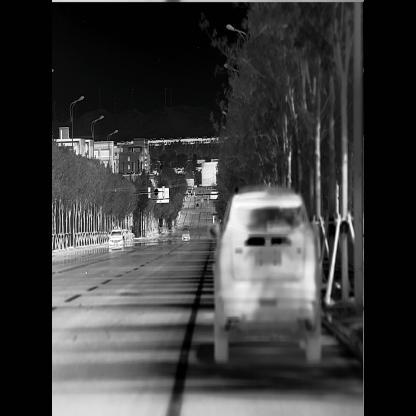car: (207, 179, 332, 371), (107, 223, 127, 253), (181, 223, 192, 243), (187, 187, 193, 195), (195, 202, 200, 211), (159, 223, 164, 232), (198, 190, 202, 196)
